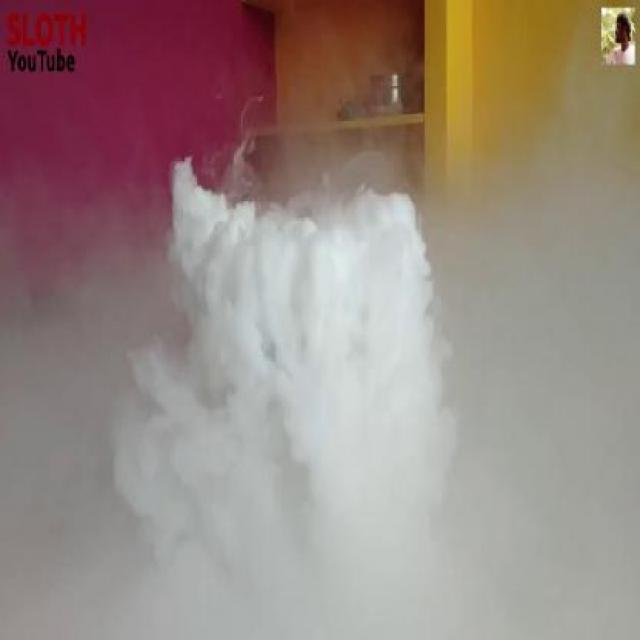smoke: (112, 131, 526, 577)
